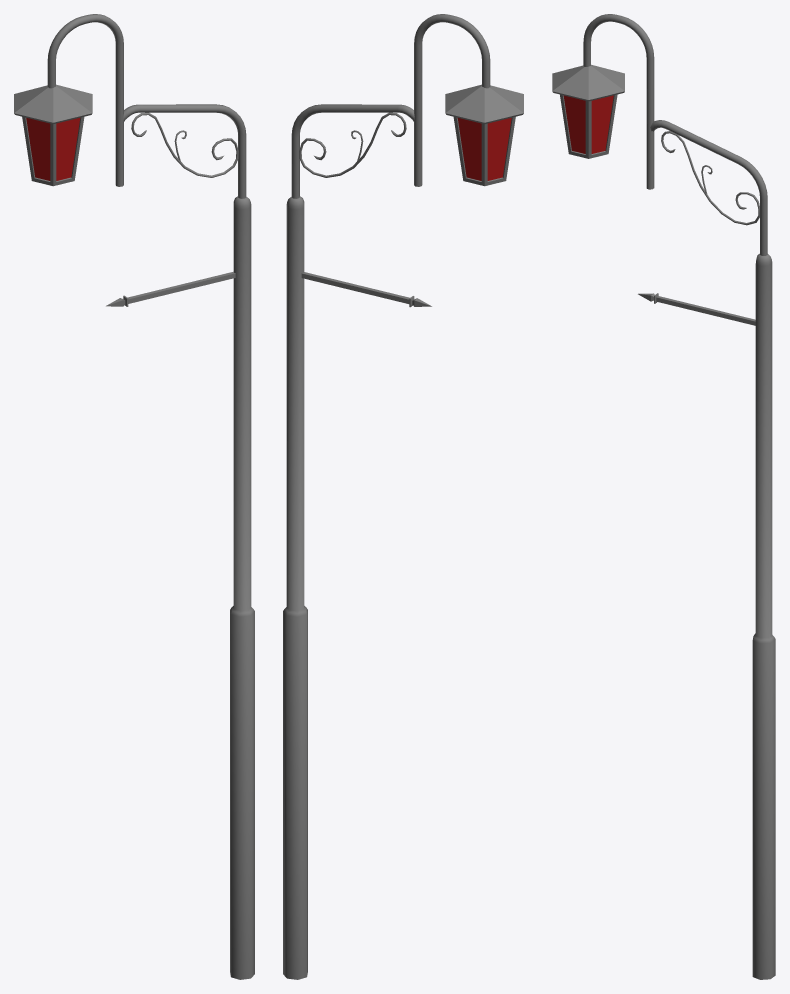
The model's file is SM_lamp_street_f_01.fbx.
The picture shows the model from 3 angles, left to right: view 1: azimuth 30°, elevation 25°; view 2: azimuth 150°, elevation 25°; view 3: azimuth 330°, elevation 25°; orthographic projection. The views are drawn at different scales.
Parts seen in each view (by area): view 1: Object1284702; view 2: Object1284702; view 3: Object1284702.
Boxes of the visible parts, x1=… form: Object1284702: x1=14, y1=14, x2=254, y2=979; Object1284702: x1=283, y1=14, x2=523, y2=979; Object1284702: x1=552, y1=14, x2=775, y2=979.
Bounding box in the file's own units: 57.9 × 231 × 16.54.
